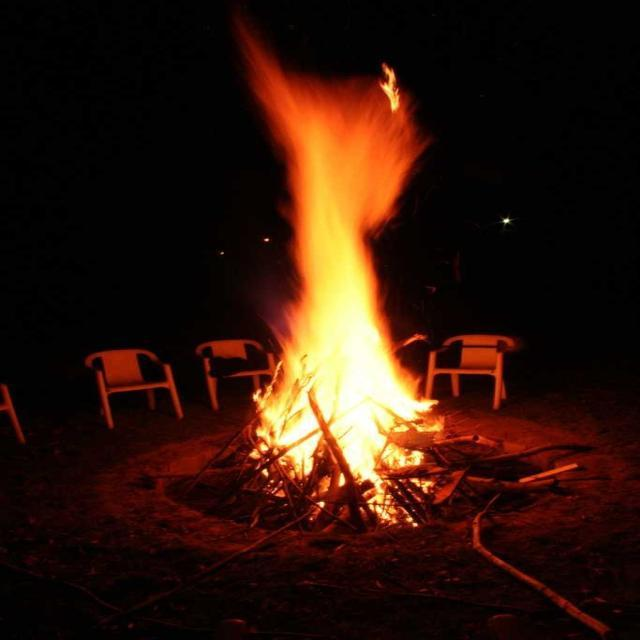Fire: (242, 54, 439, 525)
